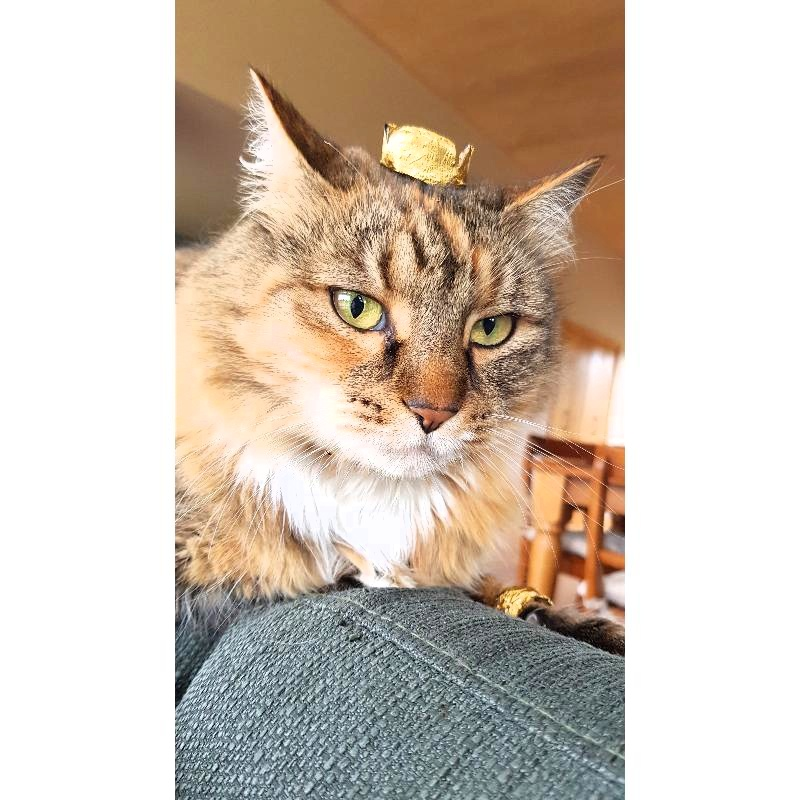yellow: (176, 59, 610, 596)
